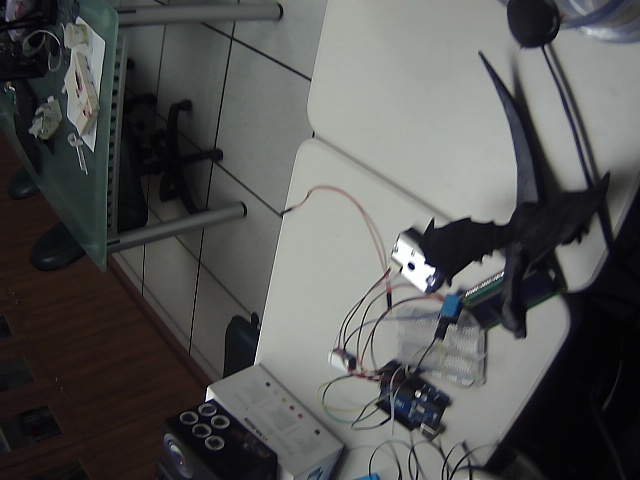charizard: (363, 38, 627, 349)
